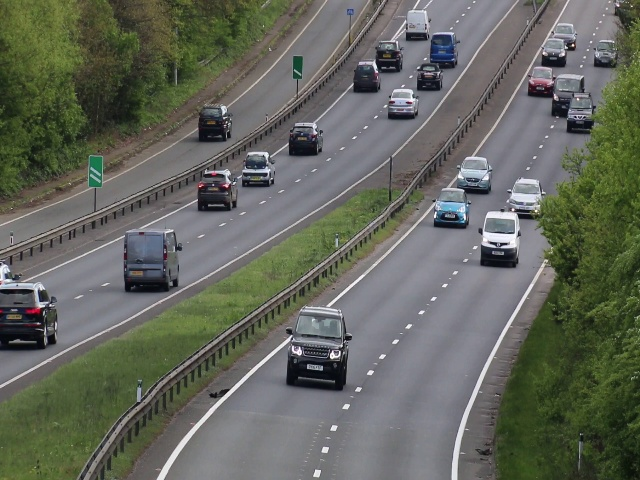car: (289, 303, 348, 390), (1, 283, 60, 348), (124, 230, 182, 291), (479, 211, 522, 266), (195, 170, 240, 209), (505, 176, 544, 219), (456, 155, 492, 196), (287, 119, 324, 157), (434, 185, 468, 226), (241, 151, 278, 188), (196, 105, 232, 142), (427, 30, 460, 67), (386, 86, 419, 118), (375, 39, 404, 73), (351, 62, 382, 93), (567, 96, 595, 128), (415, 61, 443, 92), (527, 66, 554, 97), (404, 10, 429, 41), (541, 38, 566, 65), (554, 75, 569, 118), (594, 38, 616, 67), (553, 23, 578, 39)
